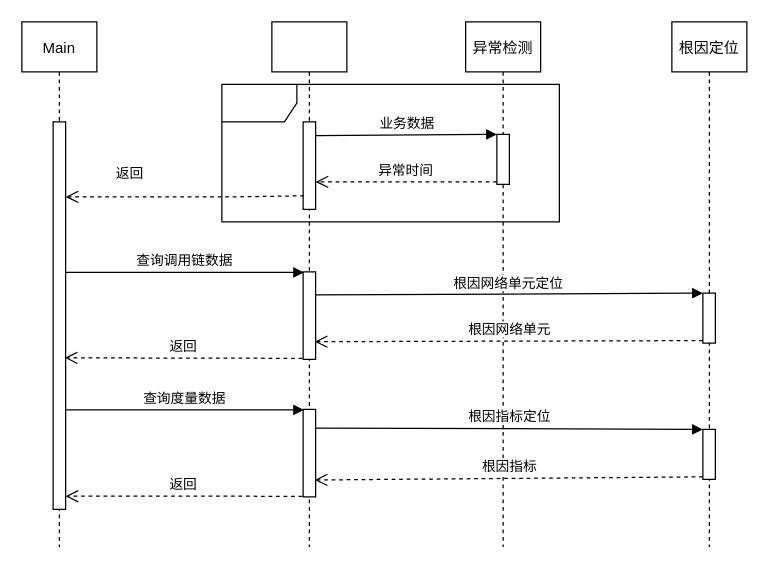
Image size: 769x569. Some labels were removed from this diagram. The shapes that lost their labels are listed below. From the top down, each one's centre as x and y in pixels, then its label:
At (390,152): "loop".
At (309,284): "数据访问".
